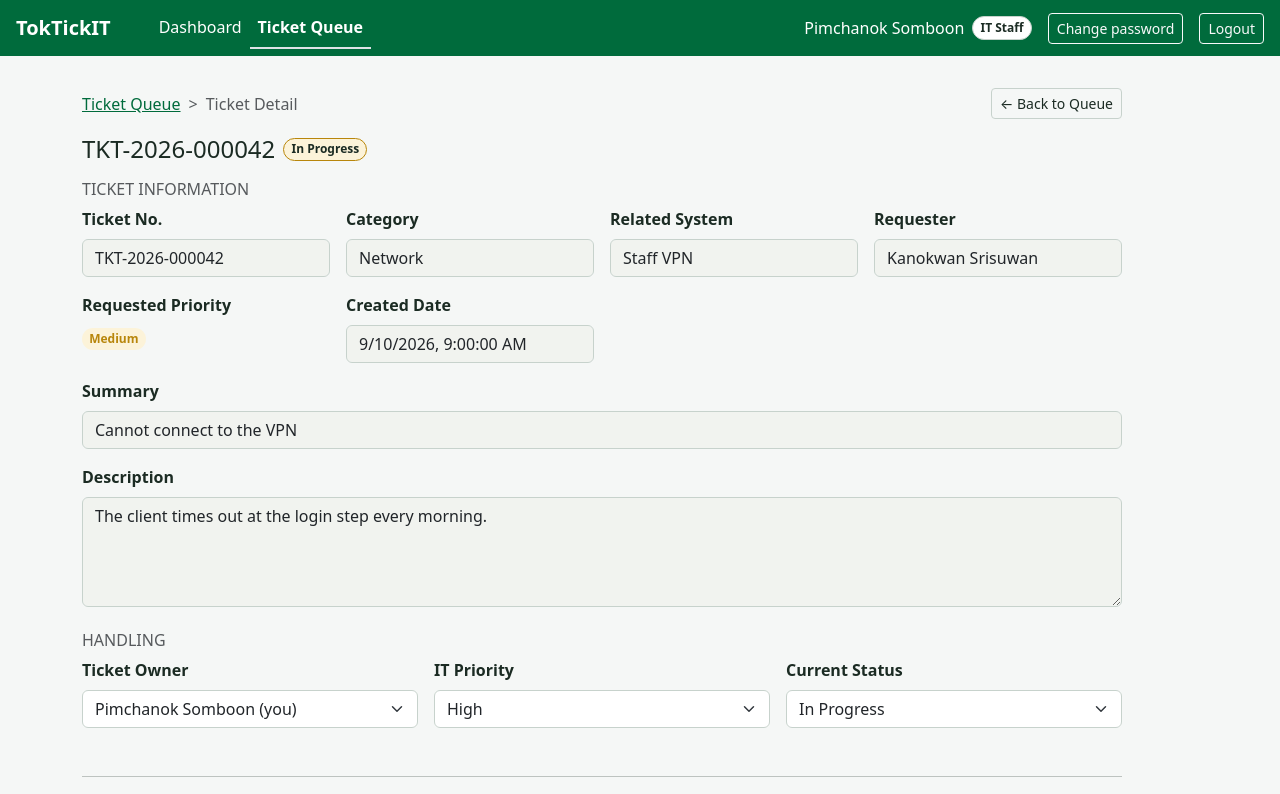
Test case: the resolution gate on the status control › shows the gate sentence from the server's counts when the move itself is refused, and reloads the Ticket
Check: the heading "TKT-2026-000042" is shown, box [82,135,275,164]
Select "Resolved" in the dropdown labelled "Current Status": (954, 709) [786,690,1122,728]
(page scrolled)
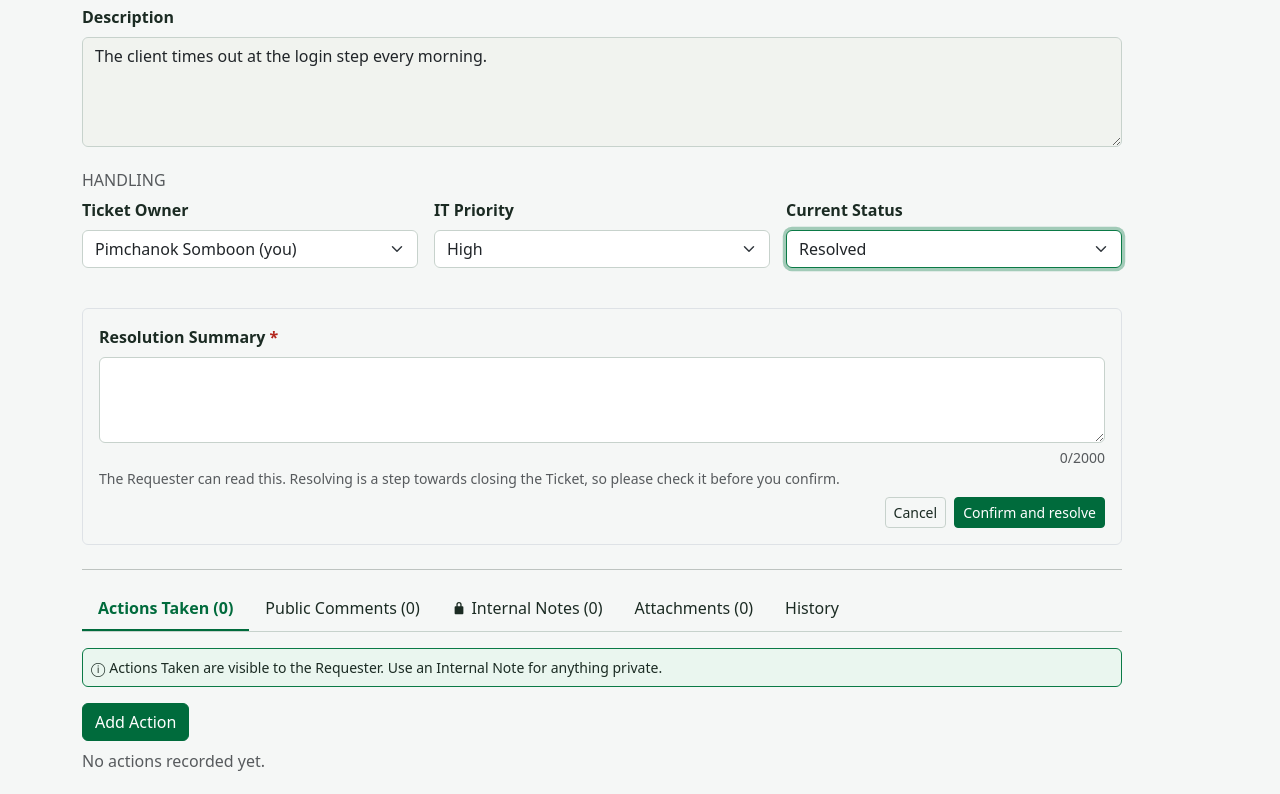
In the text box labelled "Resolution Summary *": (602, 400) [99,357,1105,443], type "Replaced the LAN cable; stable."
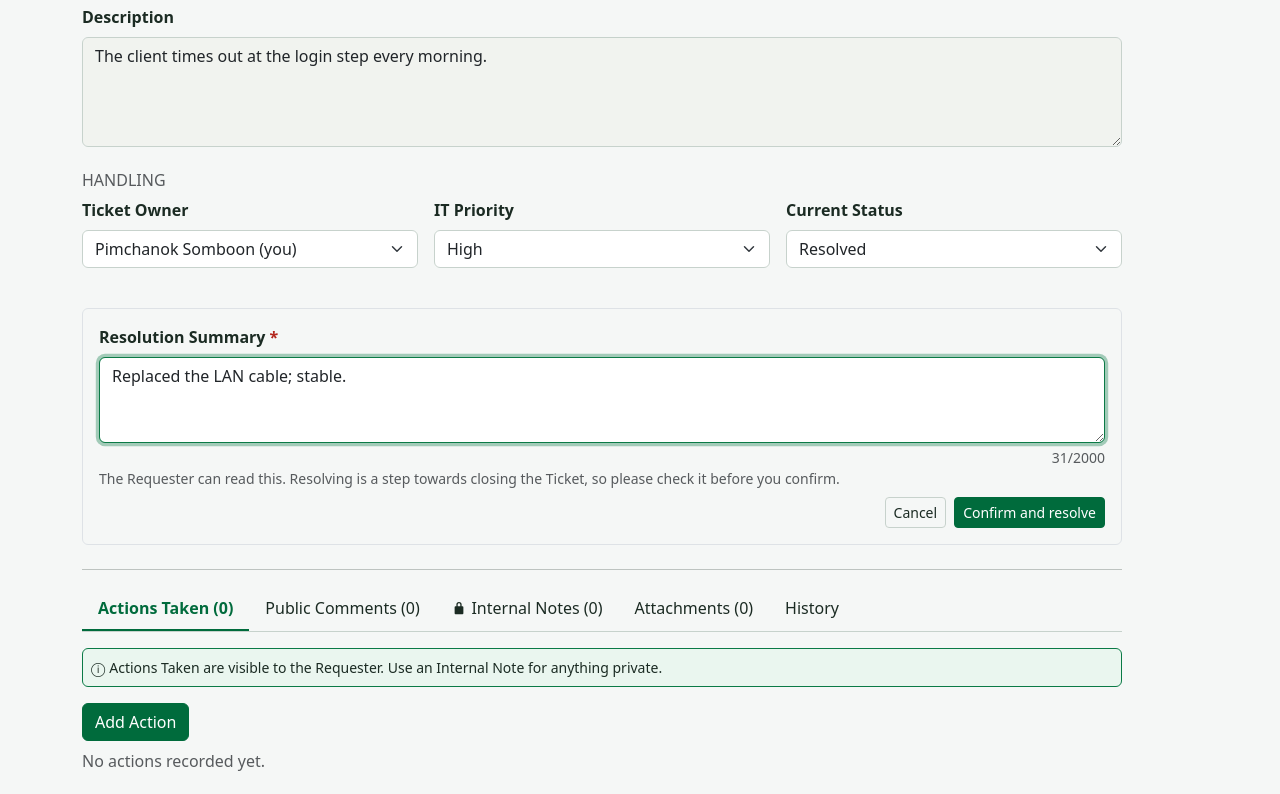
Click the button "Confirm and resolve": (1030, 513) [954,497,1105,528]
(page scrolled)
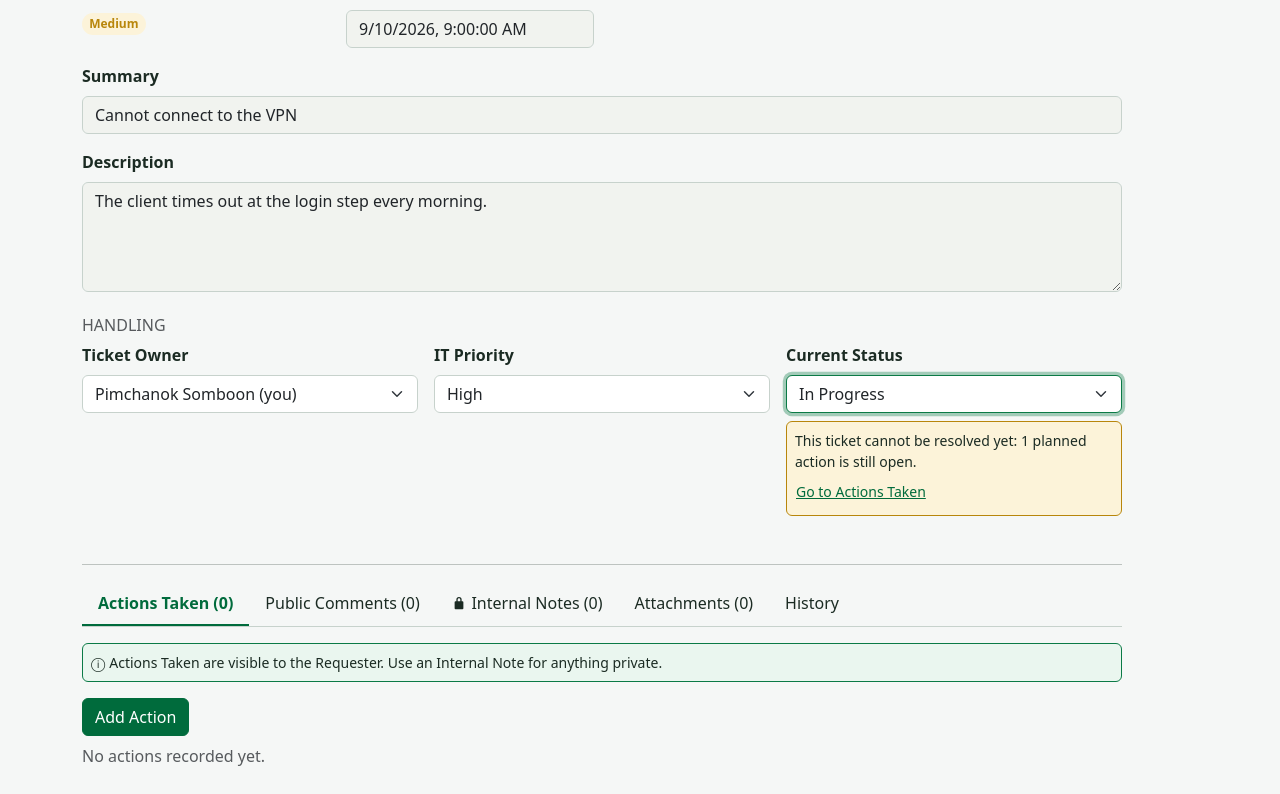
Check: the text "This ticket cannot be resolved yet: 1 planned action is still open." is shown, box [795,430,1113,472]
